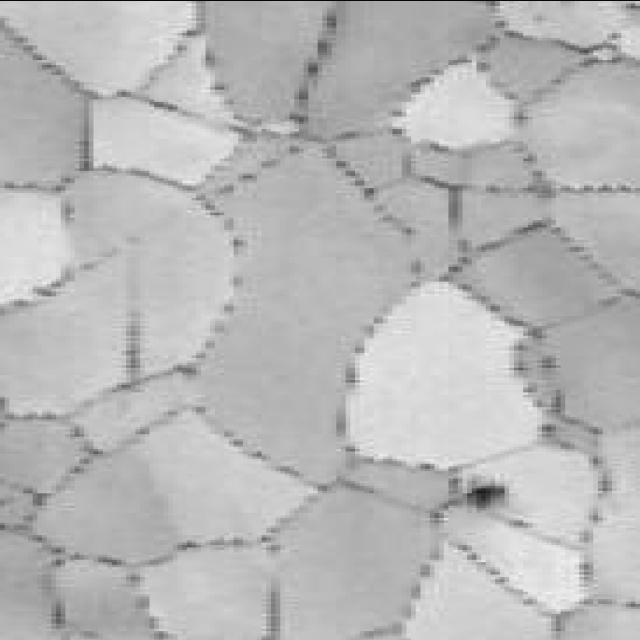good_void: (456, 482, 512, 509)
